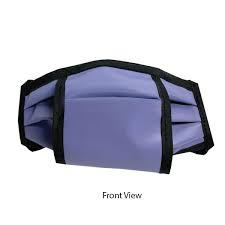cloth_mask: (17, 59, 219, 175)
